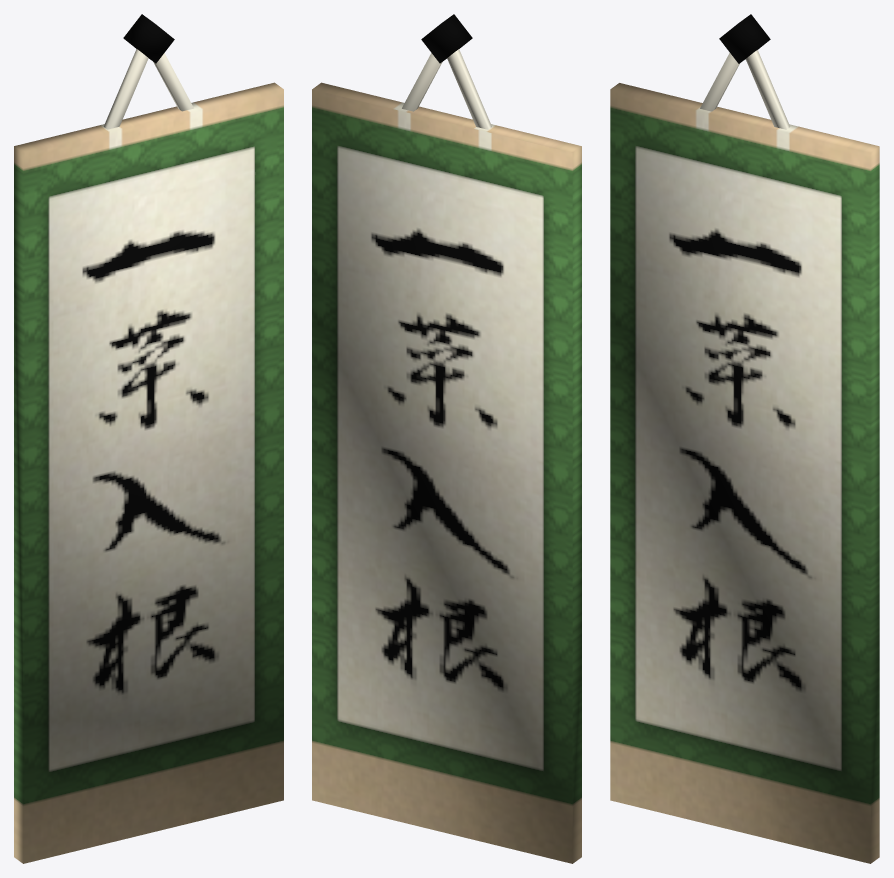
File: scroll.fbx
3 renders of one model, left to right at view 1: azimuth 30°, elevation 25°; view 2: azimuth 150°, elevation 25°; view 3: azimuth 330°, elevation 25°, orthographic.
Parts seen in each view (by area): view 1: scroll; view 2: scroll; view 3: scroll.
Part boxes in pixels (x1=…): scroll: x1=14, y1=14, x2=283, y2=863; scroll: x1=312, y1=14, x2=581, y2=863; scroll: x1=610, y1=14, x2=879, y2=863.
Size of the model in its own units: 54.7 by 163 by 4.8.
